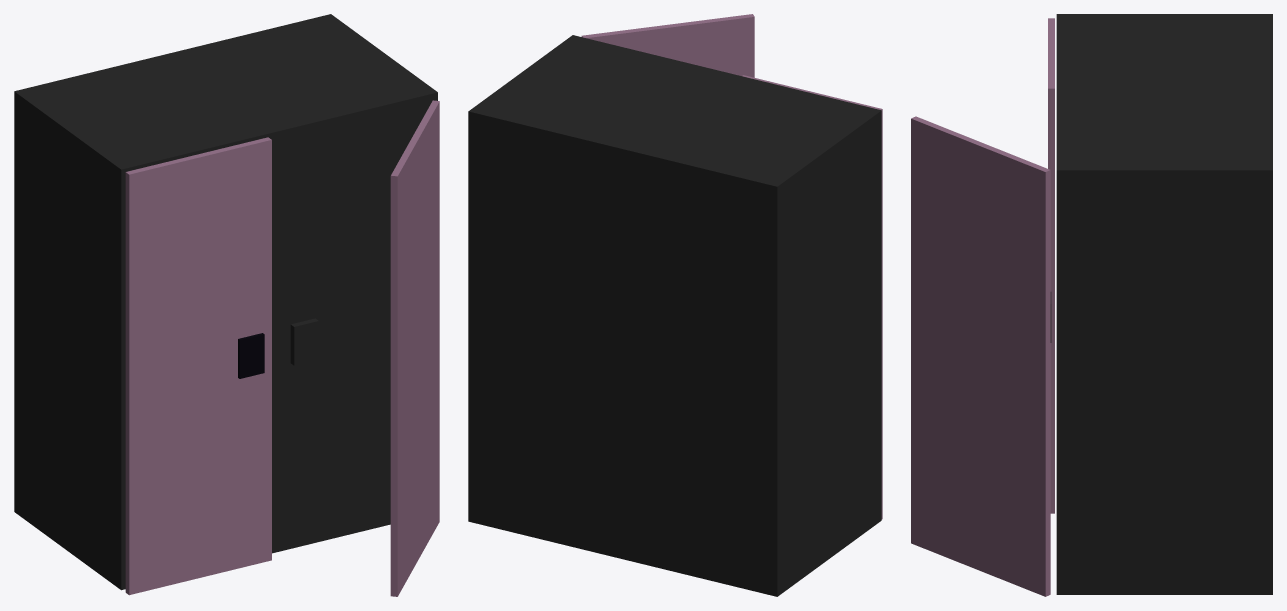
The model's file is right_door_closing.glb.
3 views of the same model, side by side, from view 1: azimuth 30°, elevation 25°; view 2: azimuth 150°, elevation 25°; view 3: azimuth 270°, elevation 25° (orthographic). The views are drawn at different scales.
Visible parts, largest first — view 1: CabinetBody, LeftDoor, RightDoor, RightHandle, LeftHandle; view 2: CabinetBody, RightDoor, LeftDoor; view 3: CabinetBody, RightDoor, LeftDoor.
Boxes of the visible parts, left/top/right/bottom form: CabinetBody: left=14, top=14, right=437, bottom=590; LeftDoor: left=125, top=137, right=271, bottom=595; RightDoor: left=390, top=100, right=439, bottom=596; RightHandle: left=290, top=318, right=318, bottom=365; LeftHandle: left=238, top=333, right=264, bottom=378; CabinetBody: left=468, top=35, right=881, bottom=596; RightDoor: left=581, top=14, right=754, bottom=77; LeftDoor: left=742, top=75, right=882, bottom=519; CabinetBody: left=1056, top=14, right=1272, bottom=594; RightDoor: left=911, top=116, right=1050, bottom=596; LeftDoor: left=1048, top=18, right=1054, bottom=513.
Size of the model in its own units: 10.25 by 13.12 by 10.04.
